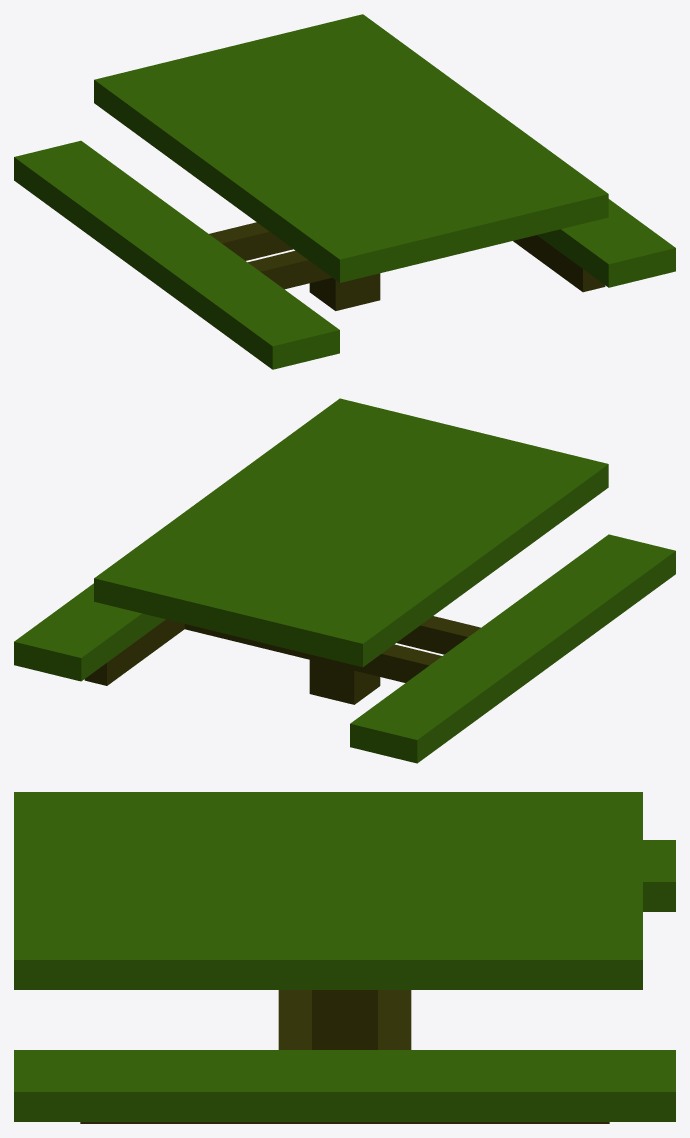
File: obj_table3.fbx
The picture shows the model from 3 angles, top to bottom: view 1: azimuth 30°, elevation 25°; view 2: azimuth 150°, elevation 25°; view 3: azimuth 270°, elevation 25°; orthographic projection. The views are drawn at different scales.
Visible parts, largest first — view 1: obj_table3; view 2: obj_table3; view 3: obj_table3.
Part boxes in pixels (x1=…): obj_table3: x1=14, y1=14, x2=675, y2=369; obj_table3: x1=14, y1=398, x2=675, y2=763; obj_table3: x1=14, y1=792, x2=675, y2=1123.
Size of the model in its own units: 1.8 by 2 by 0.7.
Materials: 1 (1 with a texture image).
